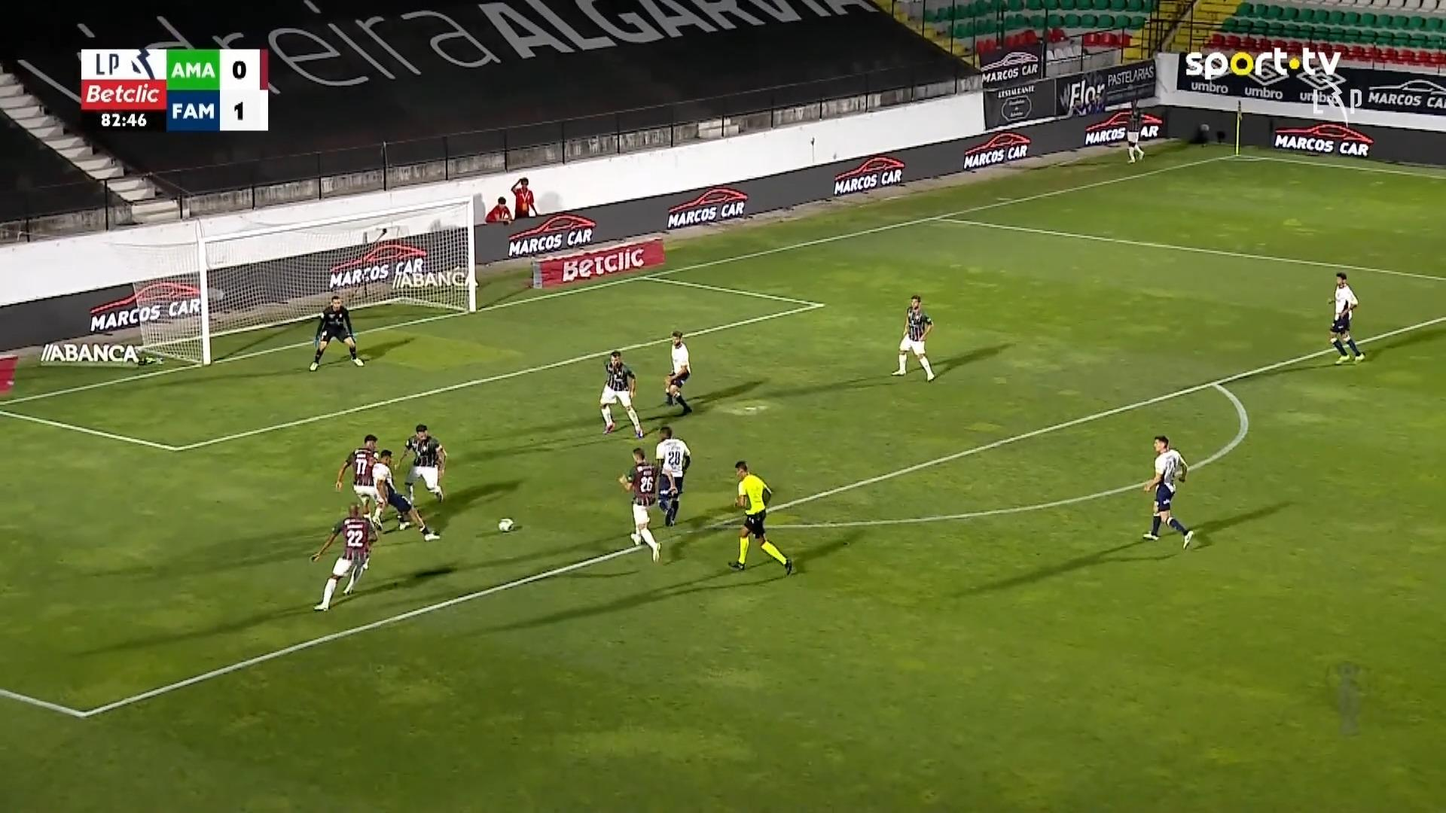ball: (497, 517, 514, 532)
goalkeeper: (308, 295, 364, 371)
player: (308, 502, 378, 611), (370, 448, 441, 541), (1141, 434, 1194, 550), (618, 446, 666, 563), (334, 433, 383, 531), (598, 349, 645, 439), (395, 423, 447, 504), (890, 294, 936, 382), (653, 425, 691, 526), (1326, 271, 1365, 364), (662, 329, 693, 415)
referee: (727, 460, 793, 576)
